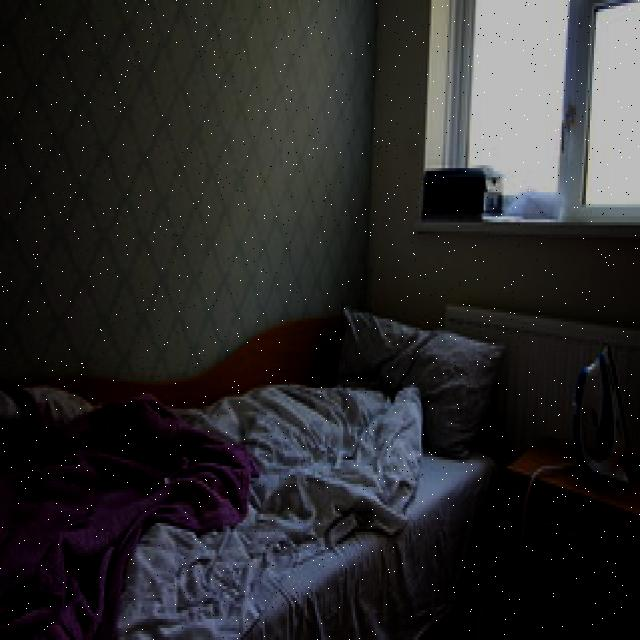bed: (0, 295, 497, 638)
